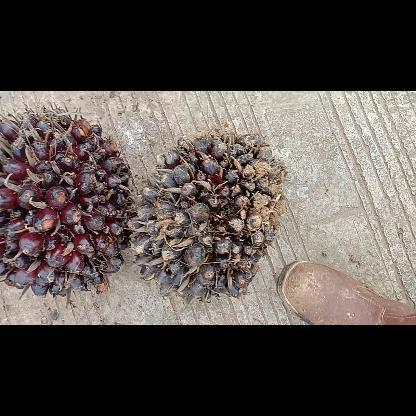TBS mentah: (128, 127, 288, 301), (0, 104, 136, 298)
